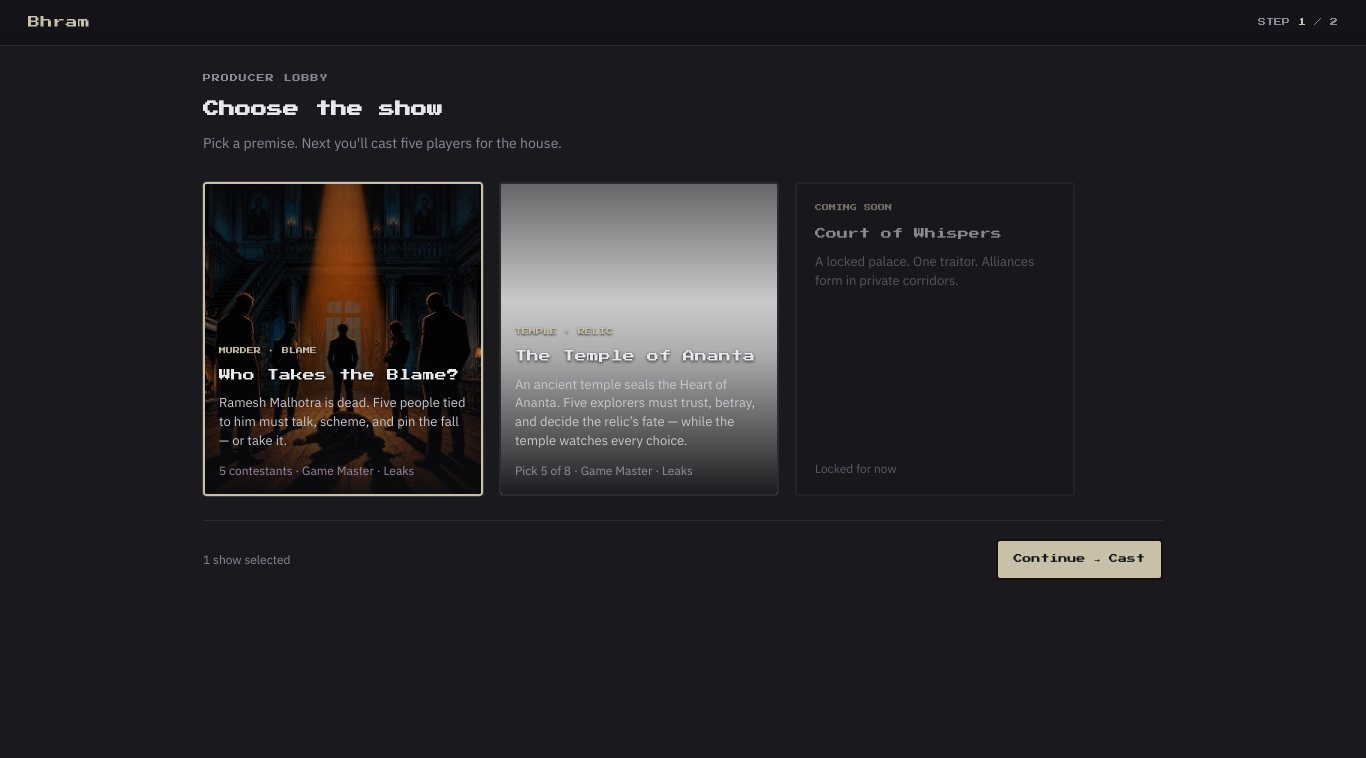
ShowSetup › shows the live-world puppet on each cast card
Click the button "Continue → Cast".
click(1079, 559)  # box [996,539,1163,580]
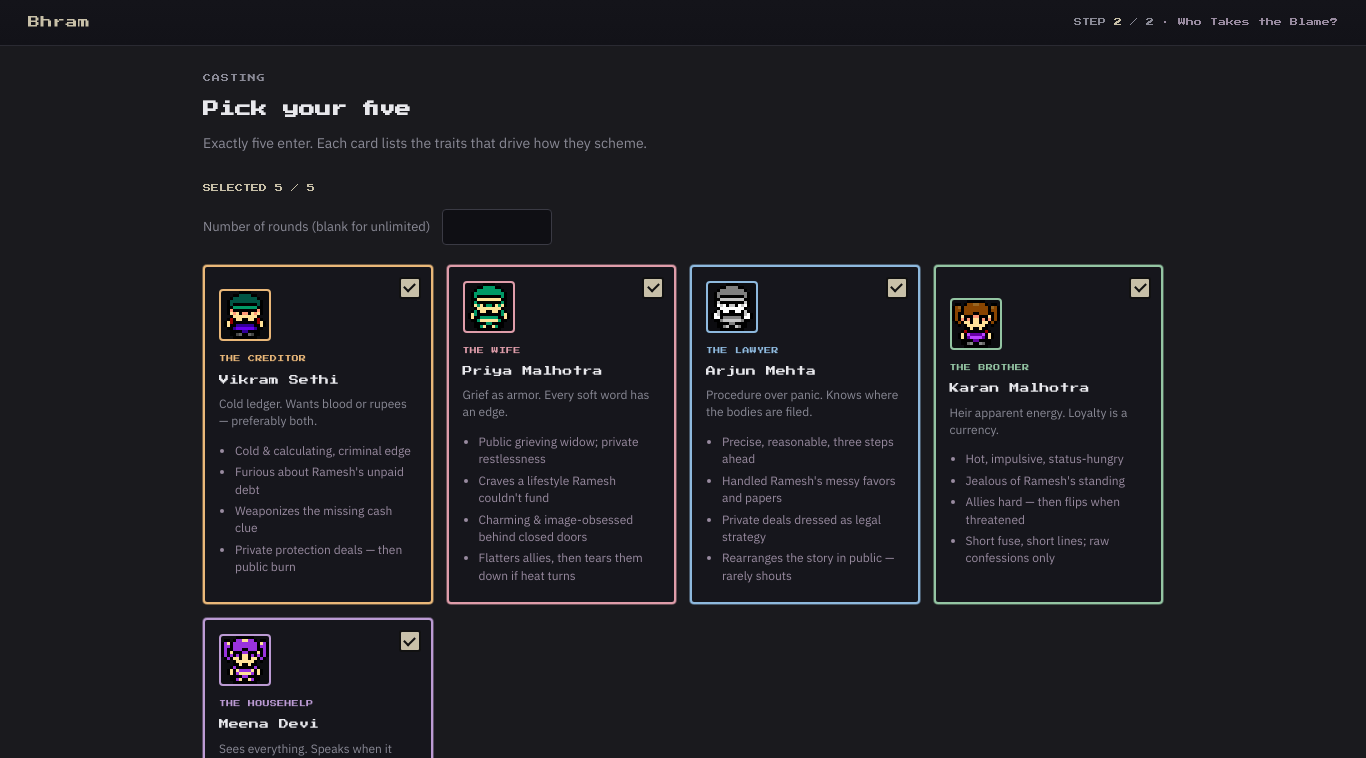
Now the element with test id "cast-portrait-creditor" is shown, box [219,290,271,342]
Now the element with test id "cast-portrait-wife" is shown, box [462,281,514,333]
Now the element with test id "cast-portrait-lawyer" is shown, box [706,281,758,333]
